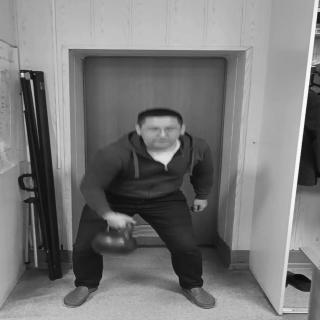kettlebell: (91, 220, 140, 257)
